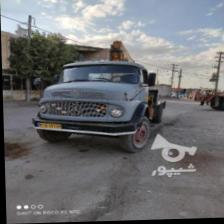plate: (34, 122, 61, 130)
